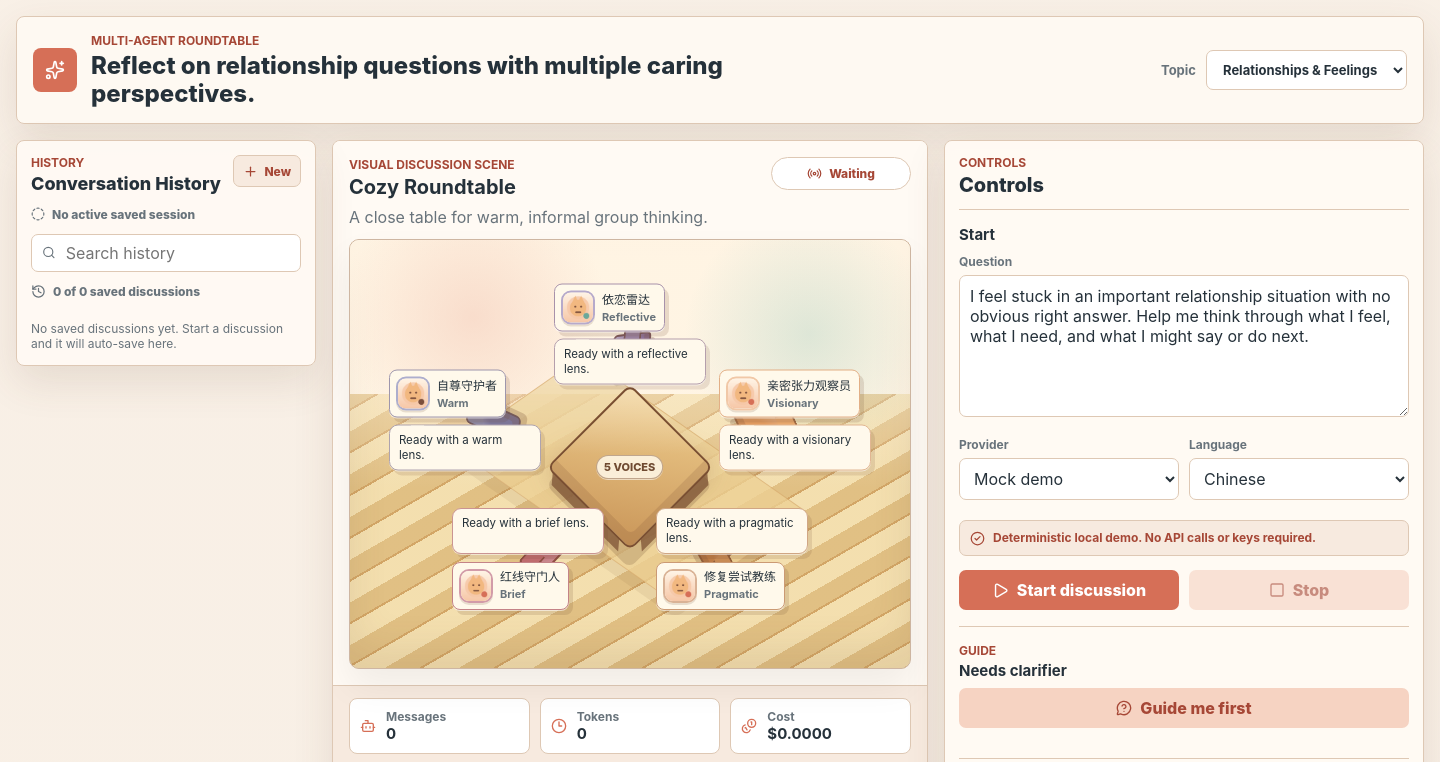
Test case: App › auto-saves a completed discussion and restores it from history
The image size is (1440, 762).
Expected: the heading "Conversation History" is shown, [31, 174, 221, 195]
Click the button "Start discussion" at coordinates (1069, 590), box [959, 570, 1179, 610]
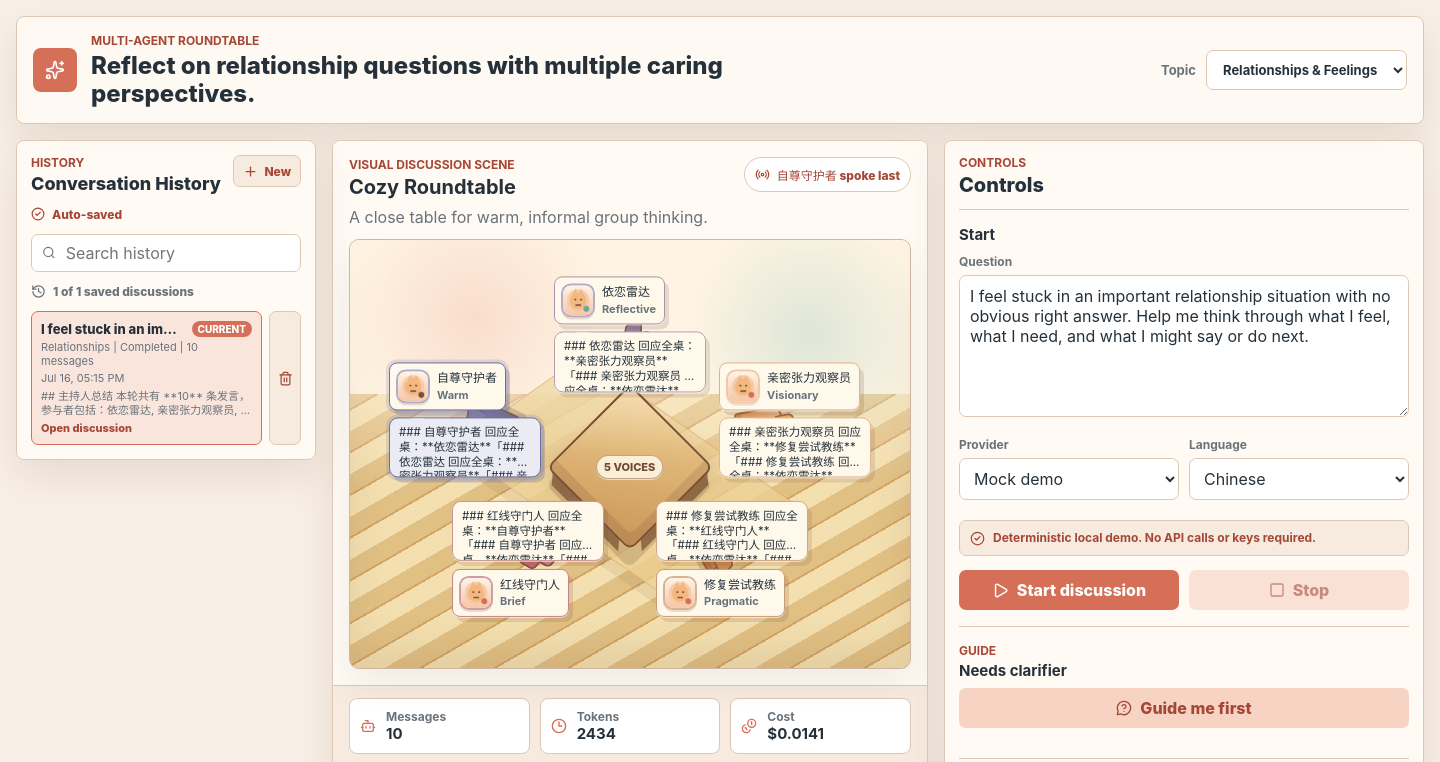
Result: the text "1 of 1 saved discussions" is shown at [53, 284, 194, 299]
Replace the text in the text box labelled "Question" with "Temporary changed question." at coordinates (1184, 346), box [959, 275, 1409, 417]
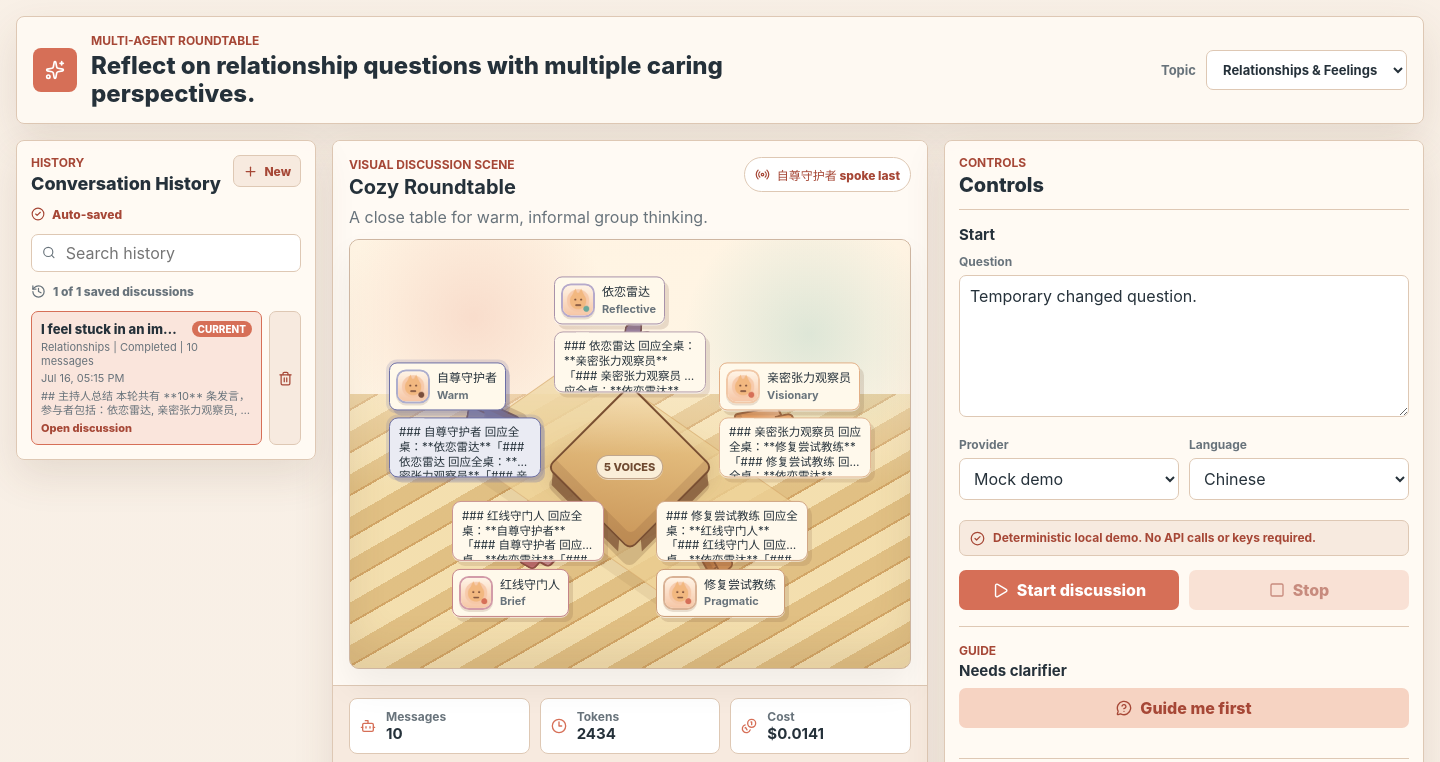
Result: the button with aria-label "open " is enabled
Click the button with aria-label "open " at coordinates (146, 378), box [31, 311, 262, 445]
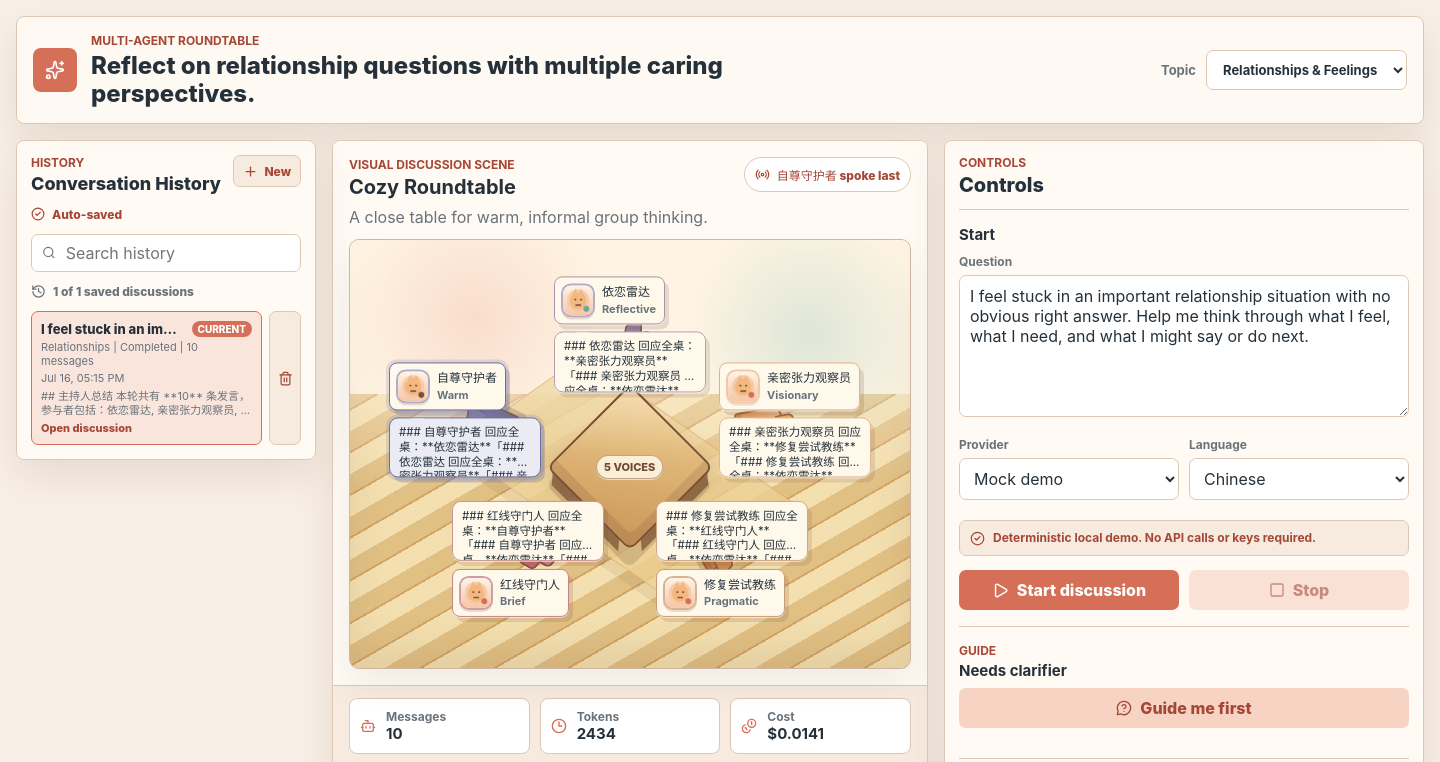
Result: the text box showing "I feel stuck in an important relationship situation with no obvious right answer. Help me think through what I feel, wha" is shown at [959, 275, 1409, 417]
Click the button "New" at coordinates (267, 171), box [233, 155, 301, 187]
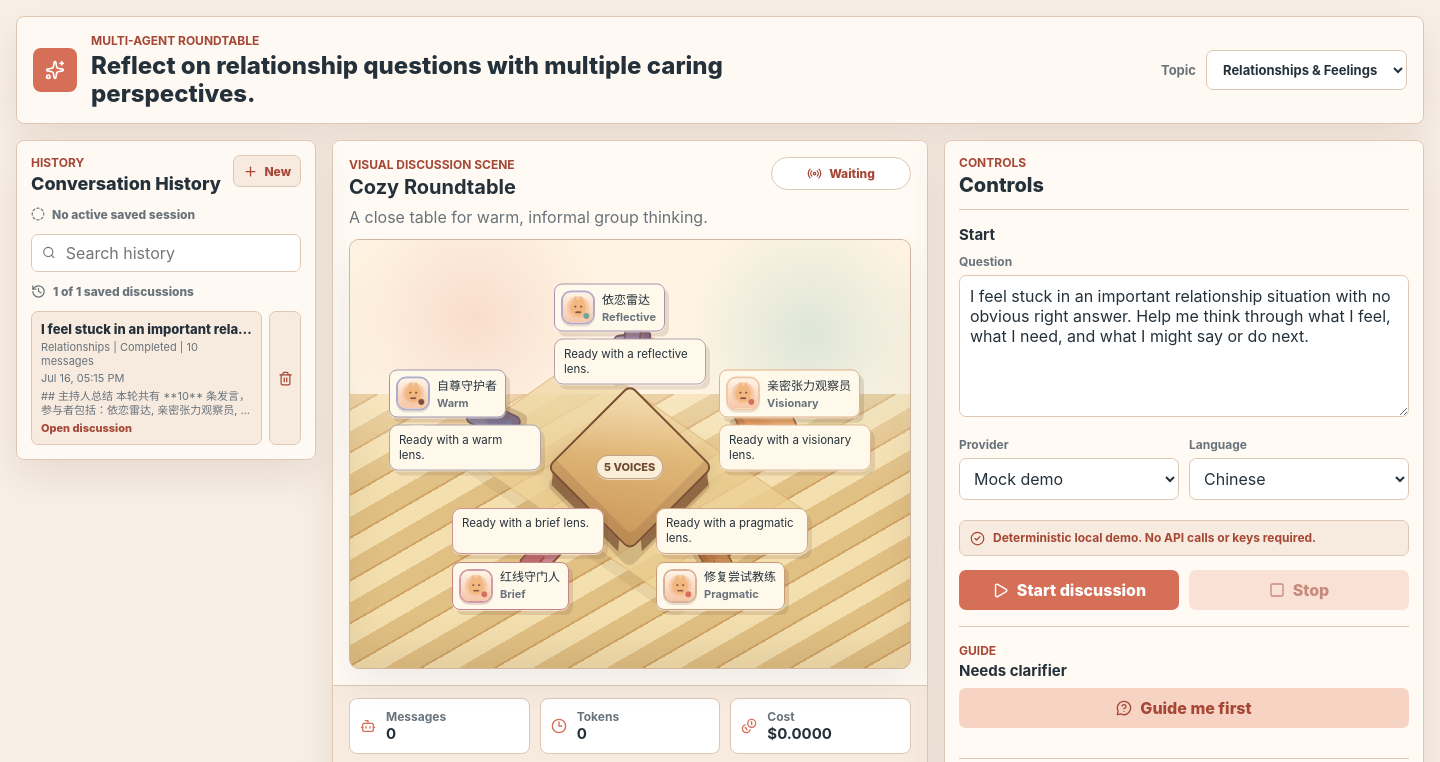
Click the button with aria-label "open " at coordinates (146, 378), box [31, 311, 262, 445]
(page scrolled)
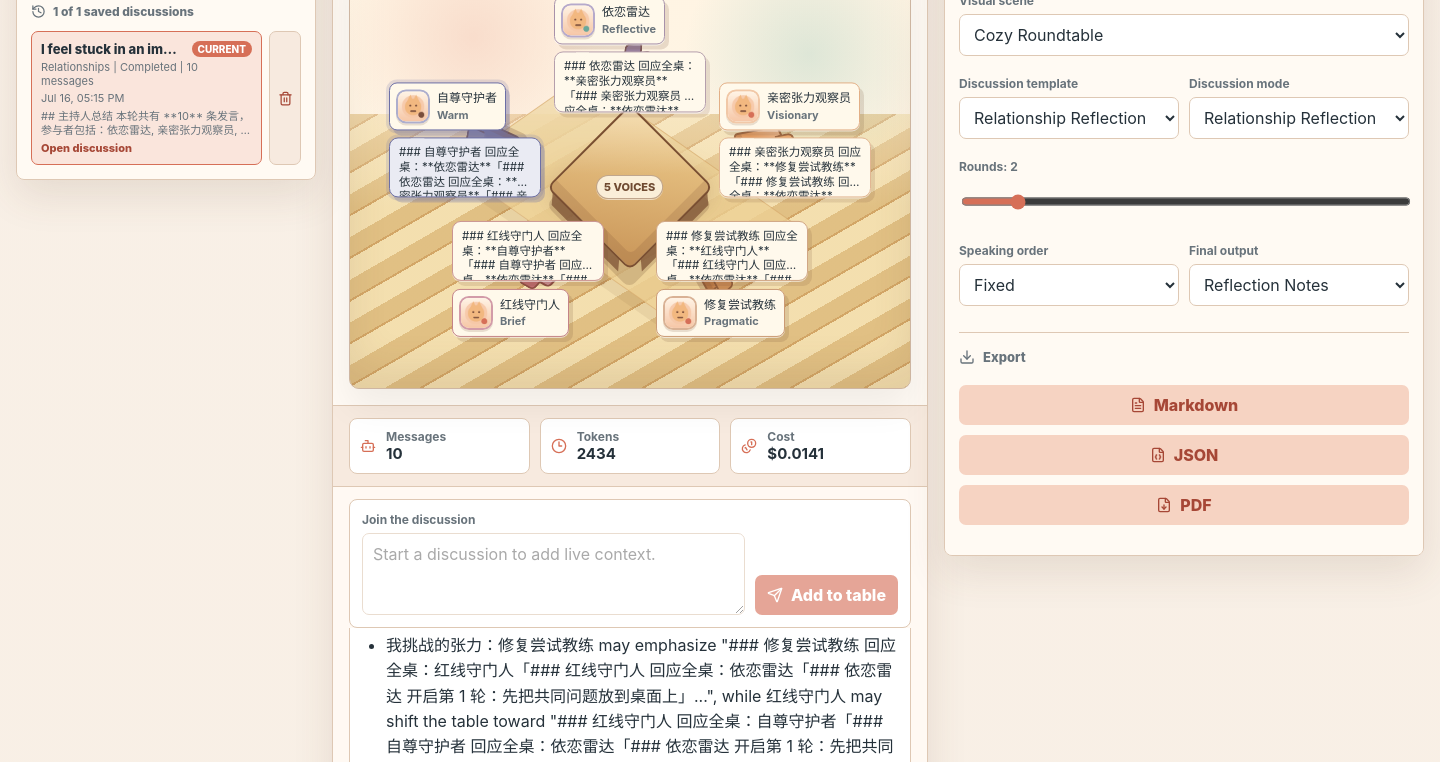
Result: the button "Markdown" is enabled at [959, 385, 1409, 425]
